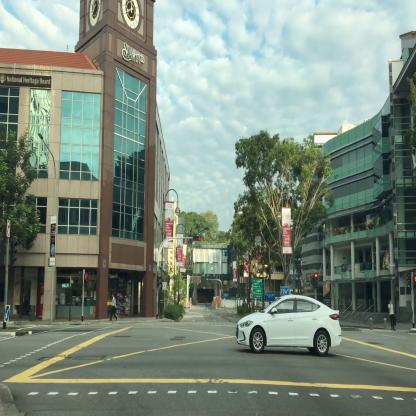red_traffic_light: (314, 272, 318, 287), (192, 235, 202, 241)
